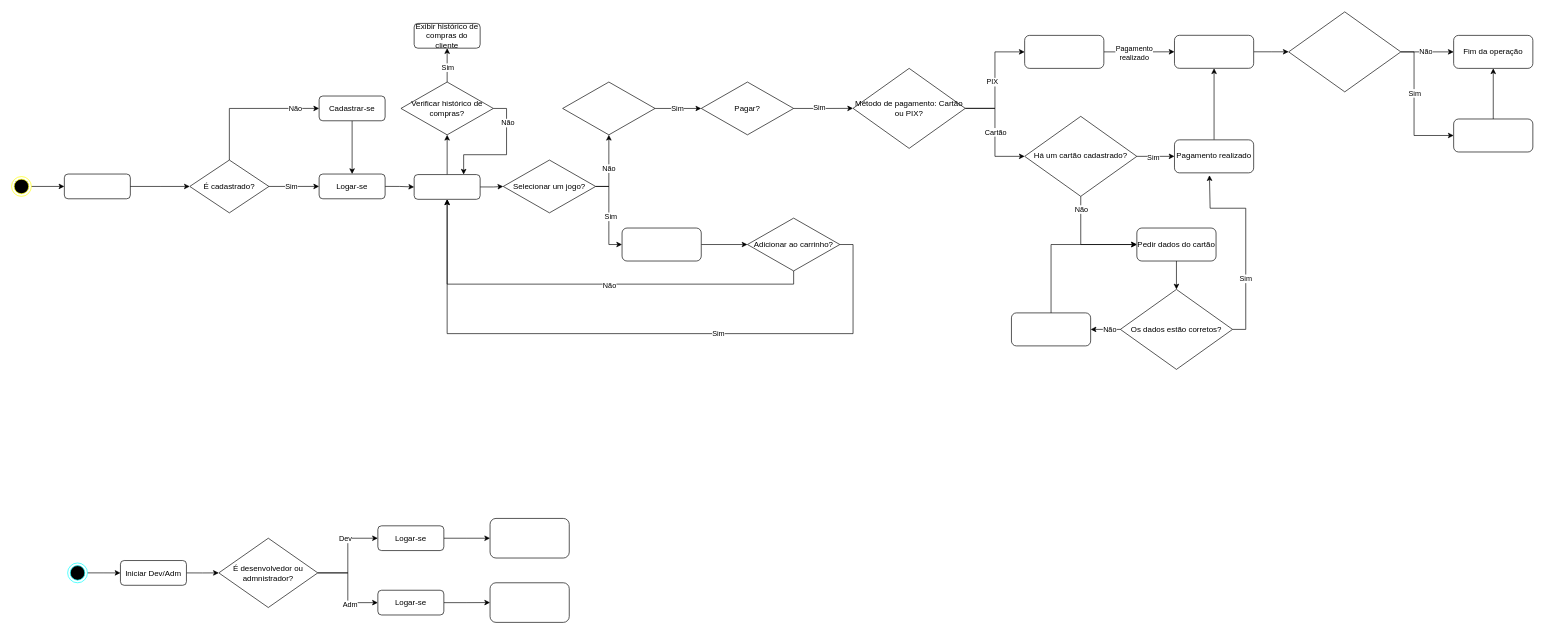
Some shapes in this 1544 by 634 pixel diagram are drawn without their labels. The centre of each missing label's shape, as x and y in pixels:
"Acessar o carrinho?" goes at [608,108].
"Avaliar o site?" goes at [1344,51].
"Disponibiliza informações do jogo e suas avaliações" goes at [661,244].
"Disponibilizar arquivo de instalação do jogo" goes at [1214,51].
"Disponibilizar chave PIX" goes at [1064,51].
"Exibir campos de feedback" goes at [1493,135].
"Iniciar Cliente" goes at [97,186].
"Mostrar erro" goes at [1051,329].
"Tela principal" goes at [446,186].
